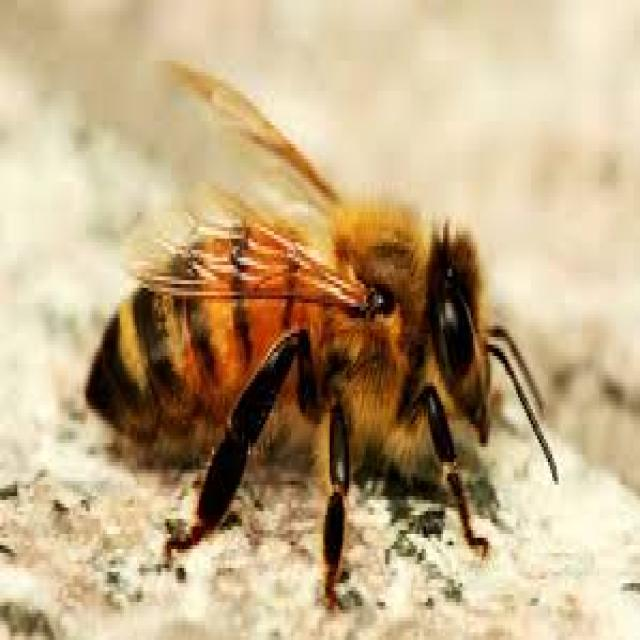Bees: (85, 59, 560, 608)
